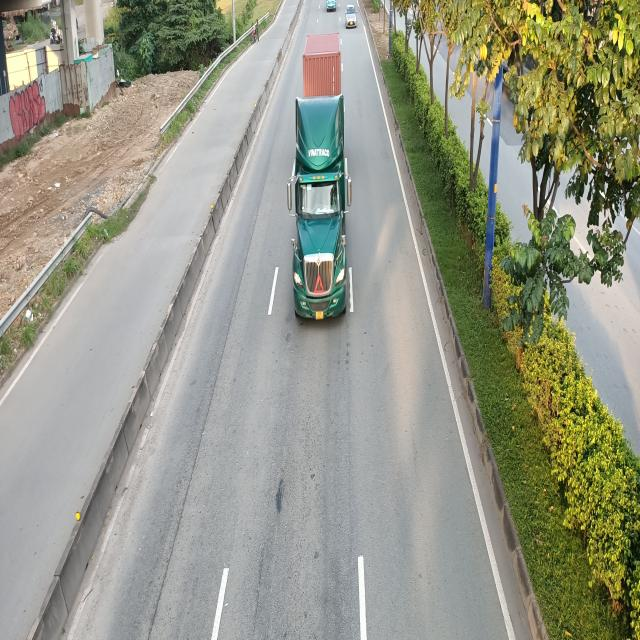car: (346, 2, 358, 28)
container: (287, 32, 350, 321)
